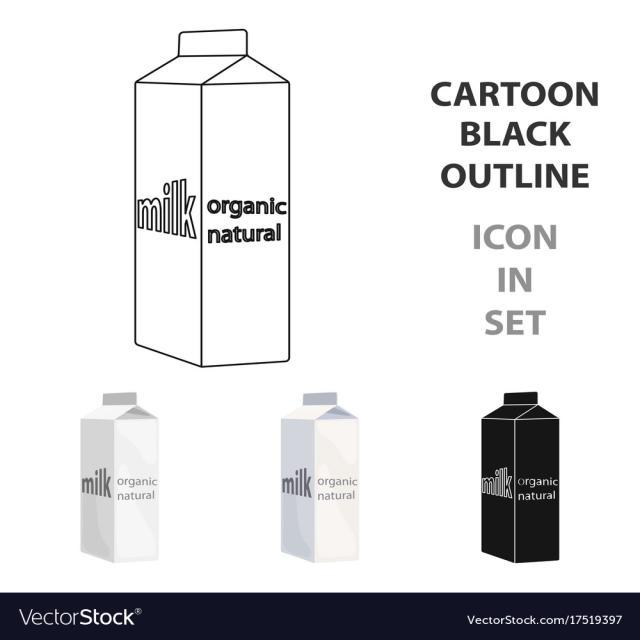Carton: (124, 6, 300, 384), (262, 378, 366, 574), (472, 378, 572, 574), (68, 378, 172, 565)
